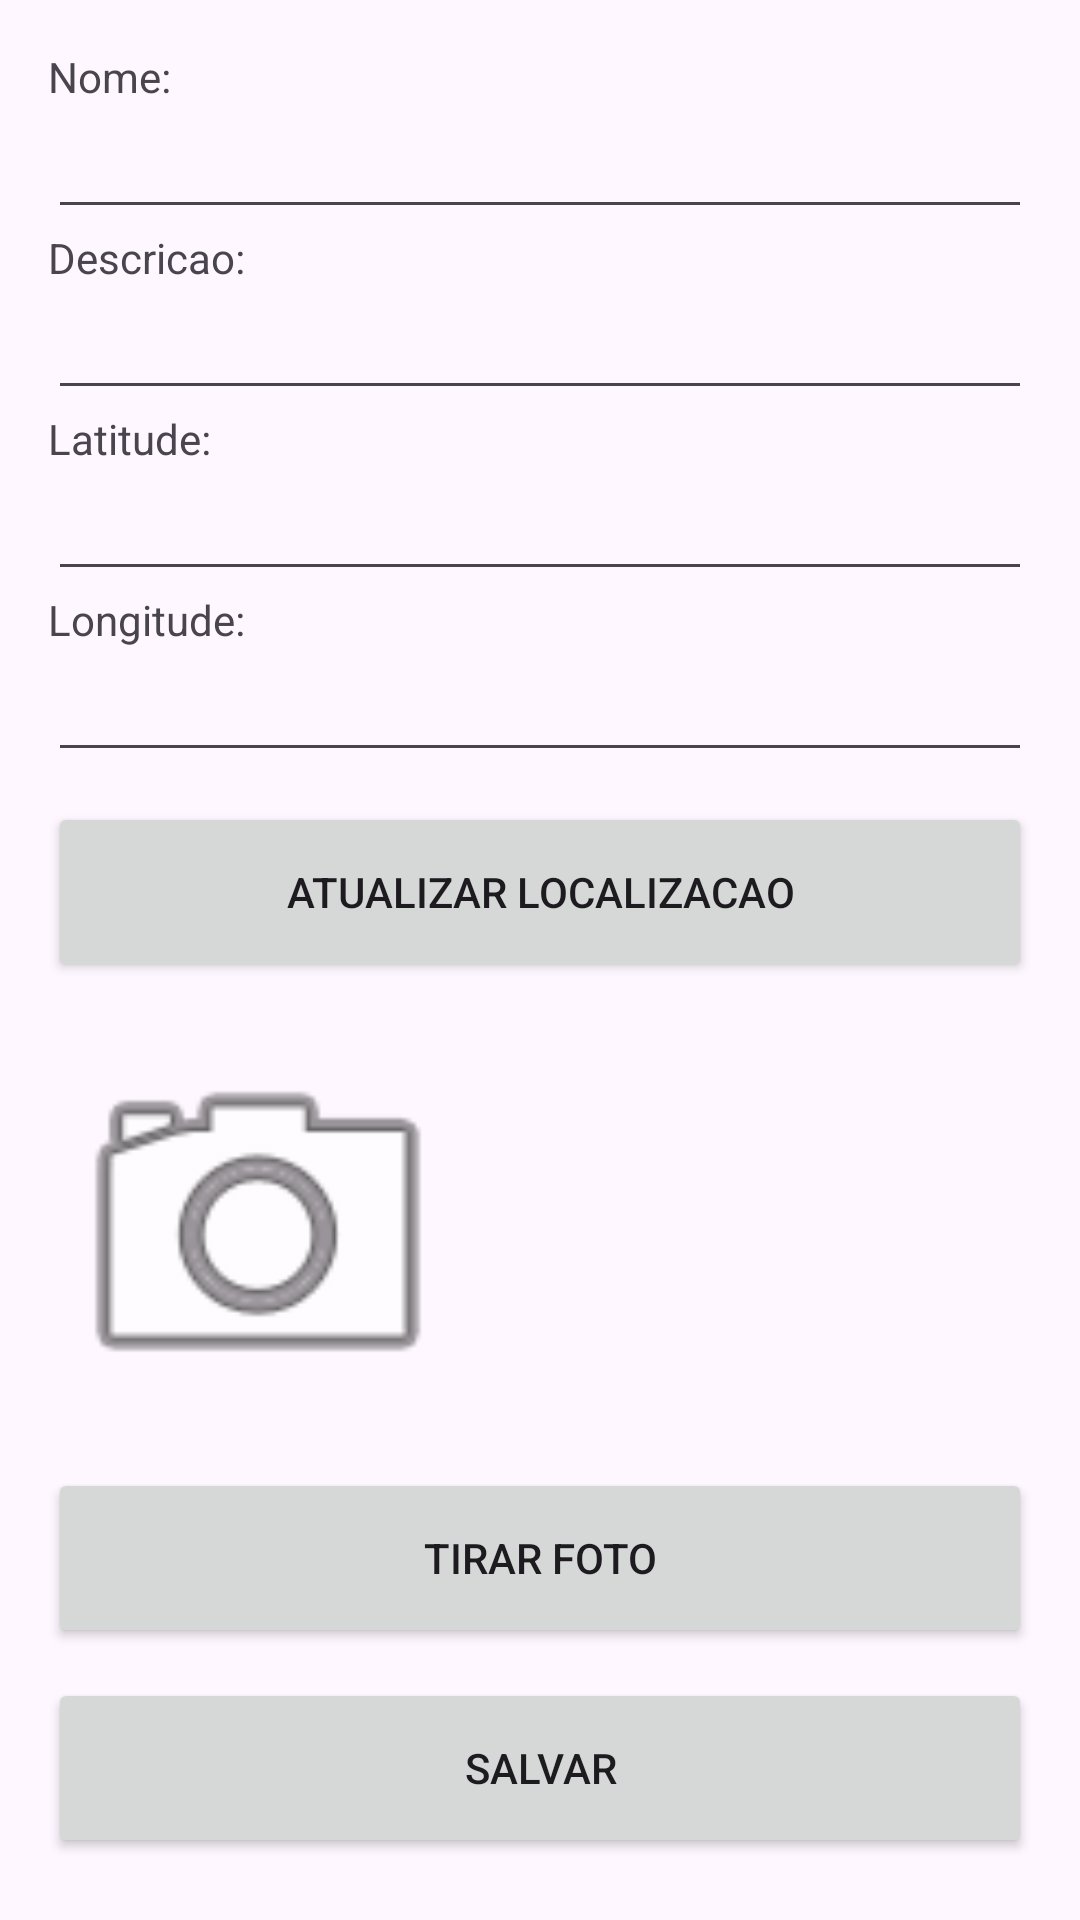

Point at icon controls on the screen. Image size 1080 x 1920, points as point (x, y).
Foto do local: point (258, 1221)
